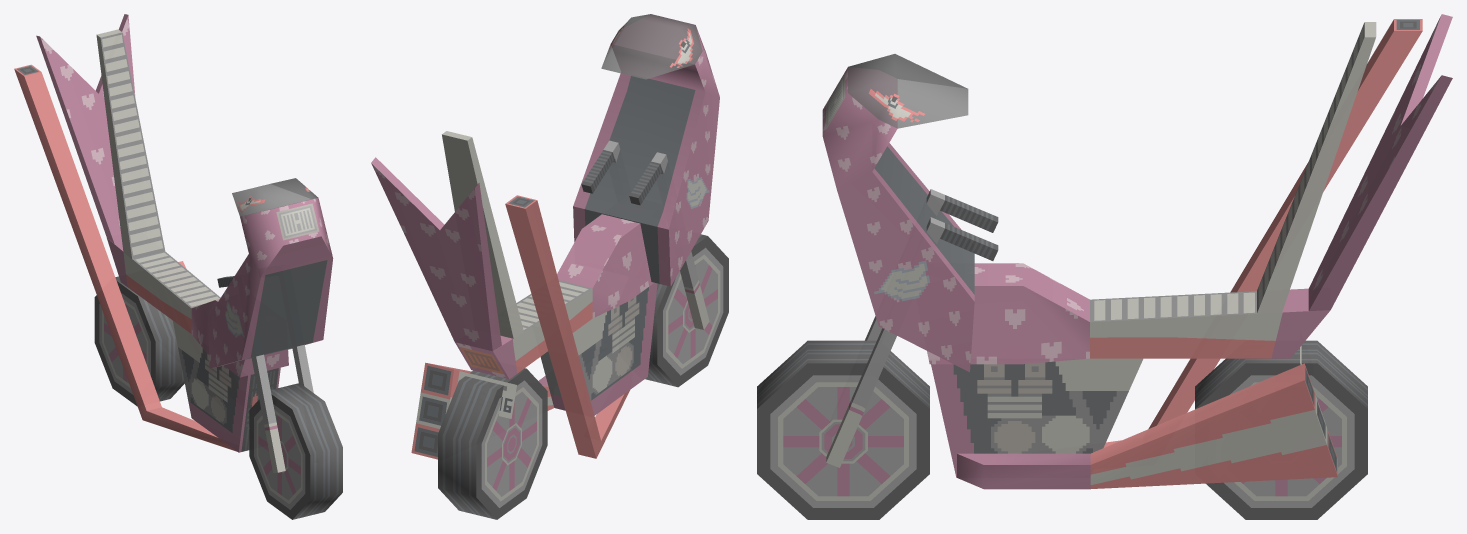
Rendered from 02b0_Chopper_3.glb.
The picture shows the model from 3 angles, left to right: view 1: azimuth 30°, elevation 25°; view 2: azimuth 150°, elevation 25°; view 3: azimuth 270°, elevation 25°; orthographic projection. The views are drawn at different scales.
Visible parts, largest first — view 1: part_0, part_1, part_2; view 2: part_0, part_2, part_1; view 3: part_0, part_1, part_2.
Part boxes in pixels (<box>): part_0: <box>14,14,333,472</box>; part_1: <box>249,383,342,519</box>; part_2: <box>94,276,184,406</box>; part_0: <box>371,14,719,459</box>; part_2: <box>438,368,547,519</box>; part_1: <box>645,234,728,387</box>; part_0: <box>822,14,1452,489</box>; part_1: <box>757,340,929,519</box>; part_2: <box>1195,340,1367,519</box>.
Bounding box in the file's own units: 0.6226 × 1.58 × 2.08.
Materials: 3 (3 with a texture image).
